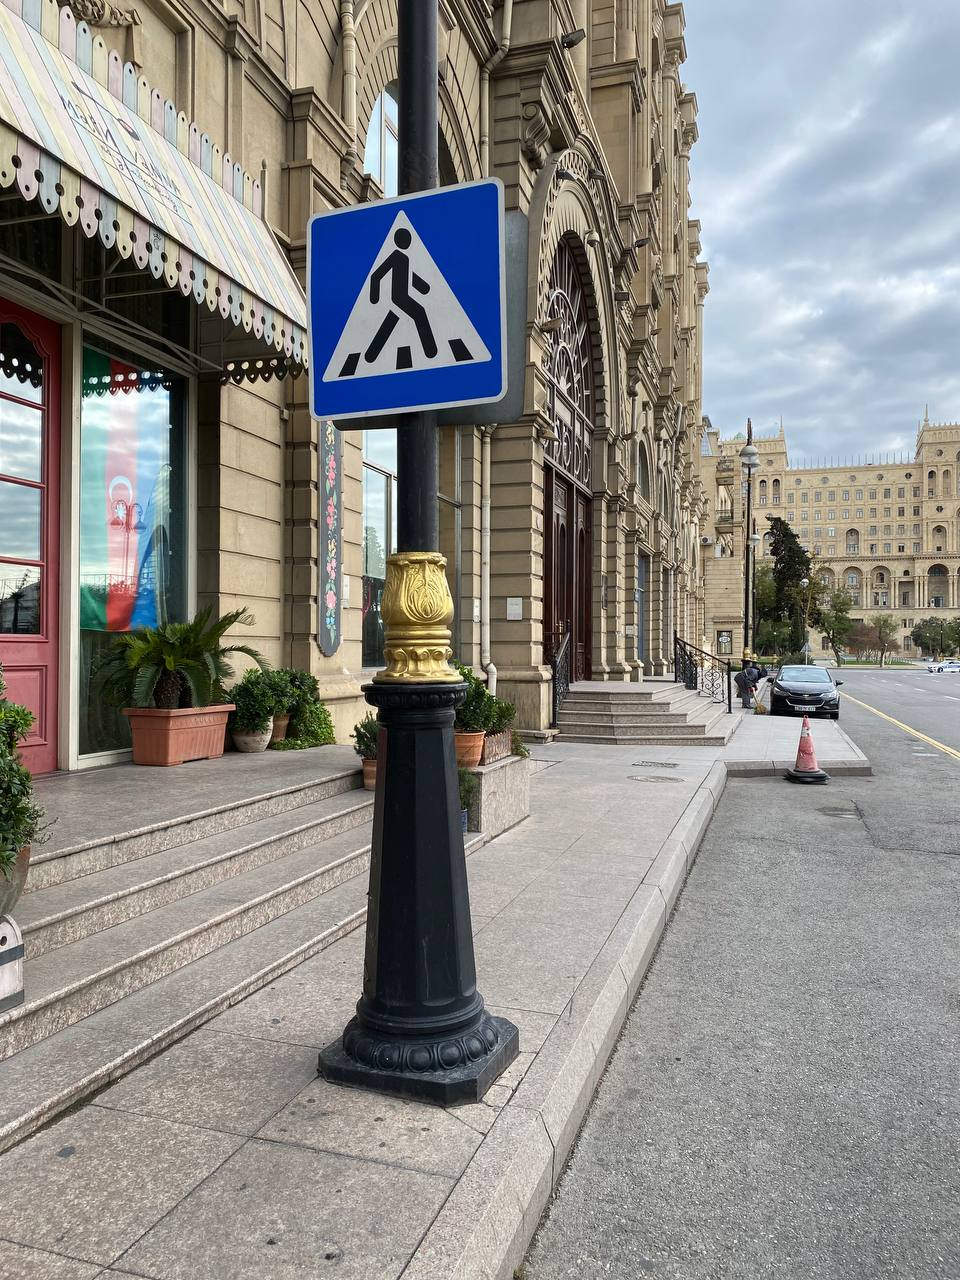Pedestrian Crossing: (309, 176, 505, 423)
